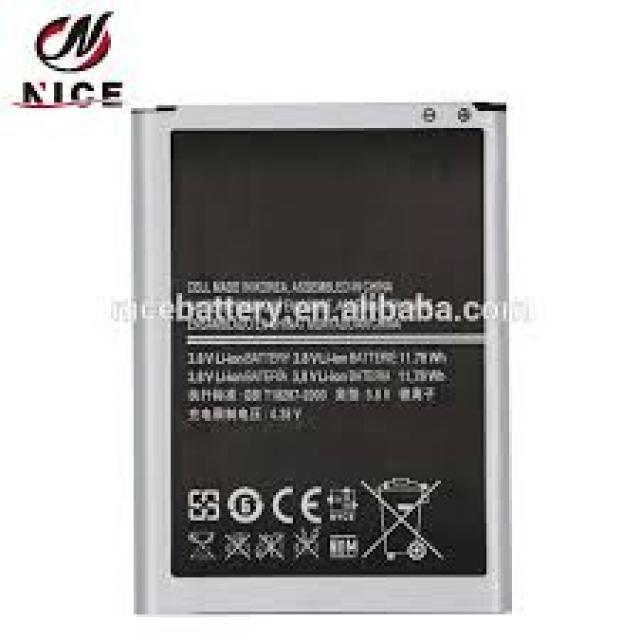non-organic waste: (124, 107, 511, 617)
